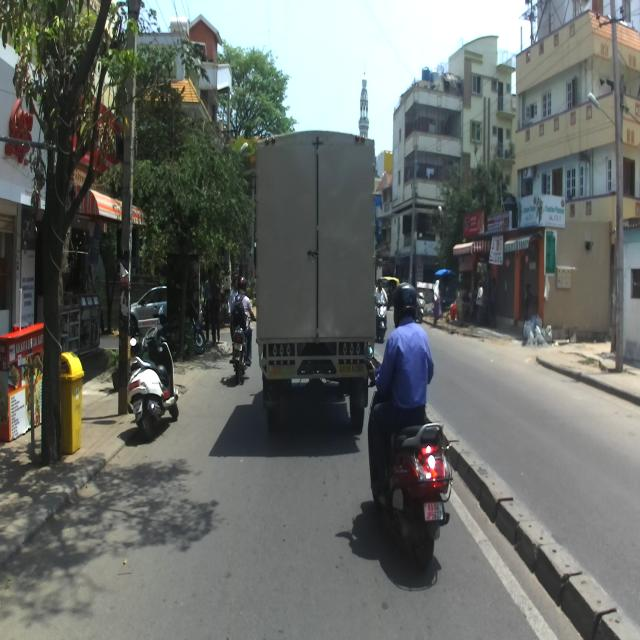dustbin ahead at: (60, 342, 85, 464)
motorcycle ahead at: (364, 417, 456, 562), (123, 317, 180, 436)
tree ahead at: (26, 58, 88, 473)
truck ahead at: (252, 135, 379, 432)
